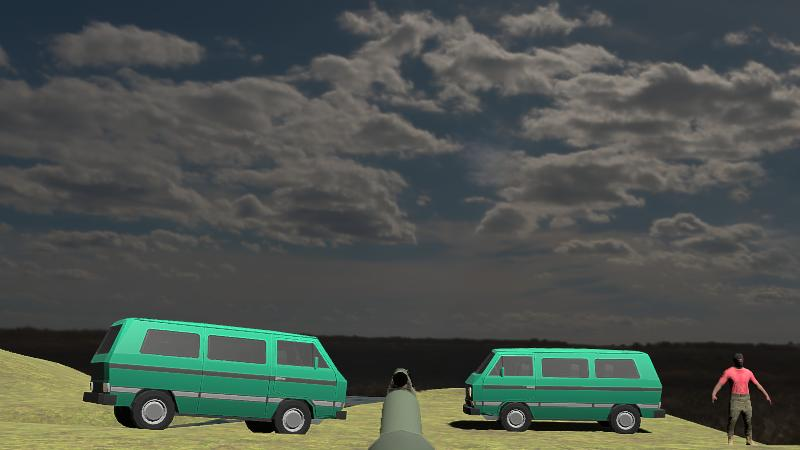Human: (712, 352, 771, 448)
car: (83, 318, 349, 434), (464, 346, 665, 435)
